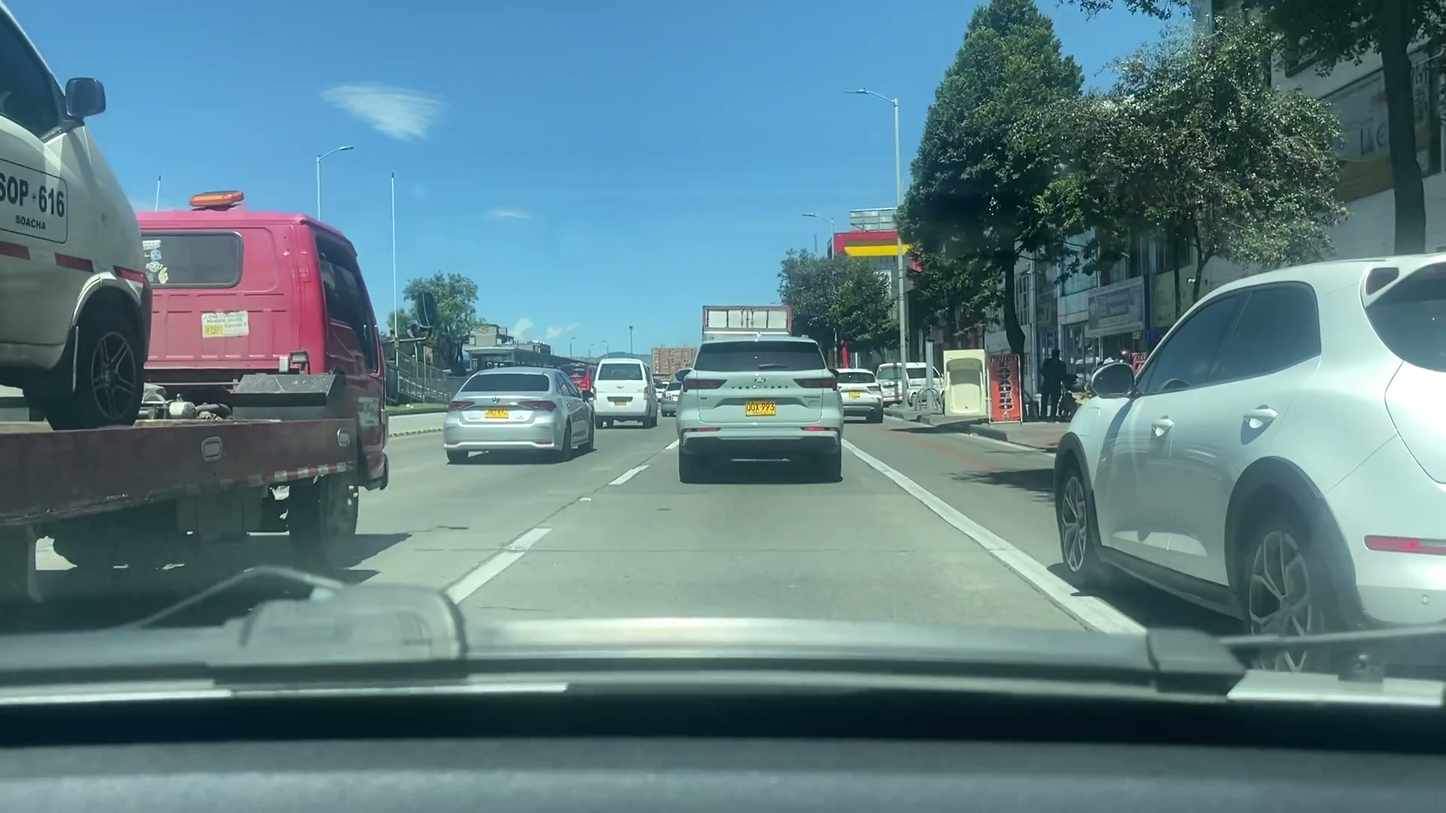bus: (588, 353, 663, 426)
car: (1052, 253, 1446, 677), (0, 0, 156, 424), (678, 337, 844, 482), (434, 367, 601, 462), (827, 365, 889, 425)
truck: (0, 202, 406, 572)
